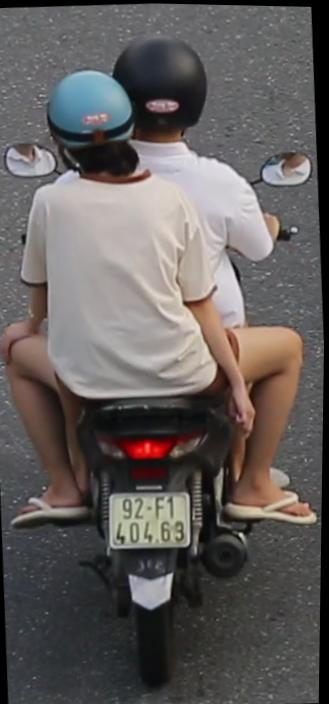LP: (105, 485, 197, 558)
helmet: (43, 60, 142, 172)
